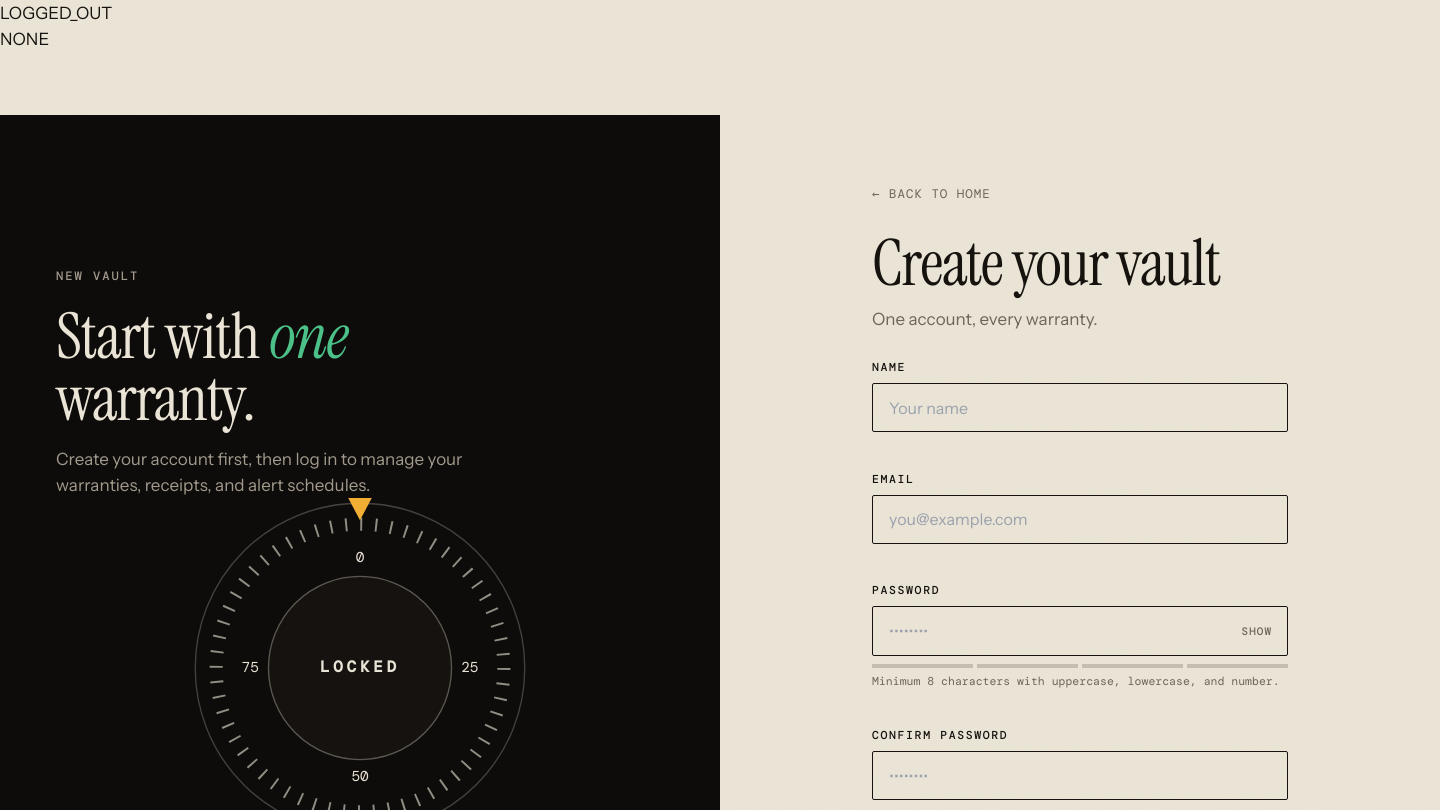
Scenario: Authentication Flow & Verification (Email & Password) › Checklist 3: User must register first, and after registration login succeeds
In the field with placeholder "Your name": coordinates (1080, 408) [872,383,1288,432], type "Alex Mercer"
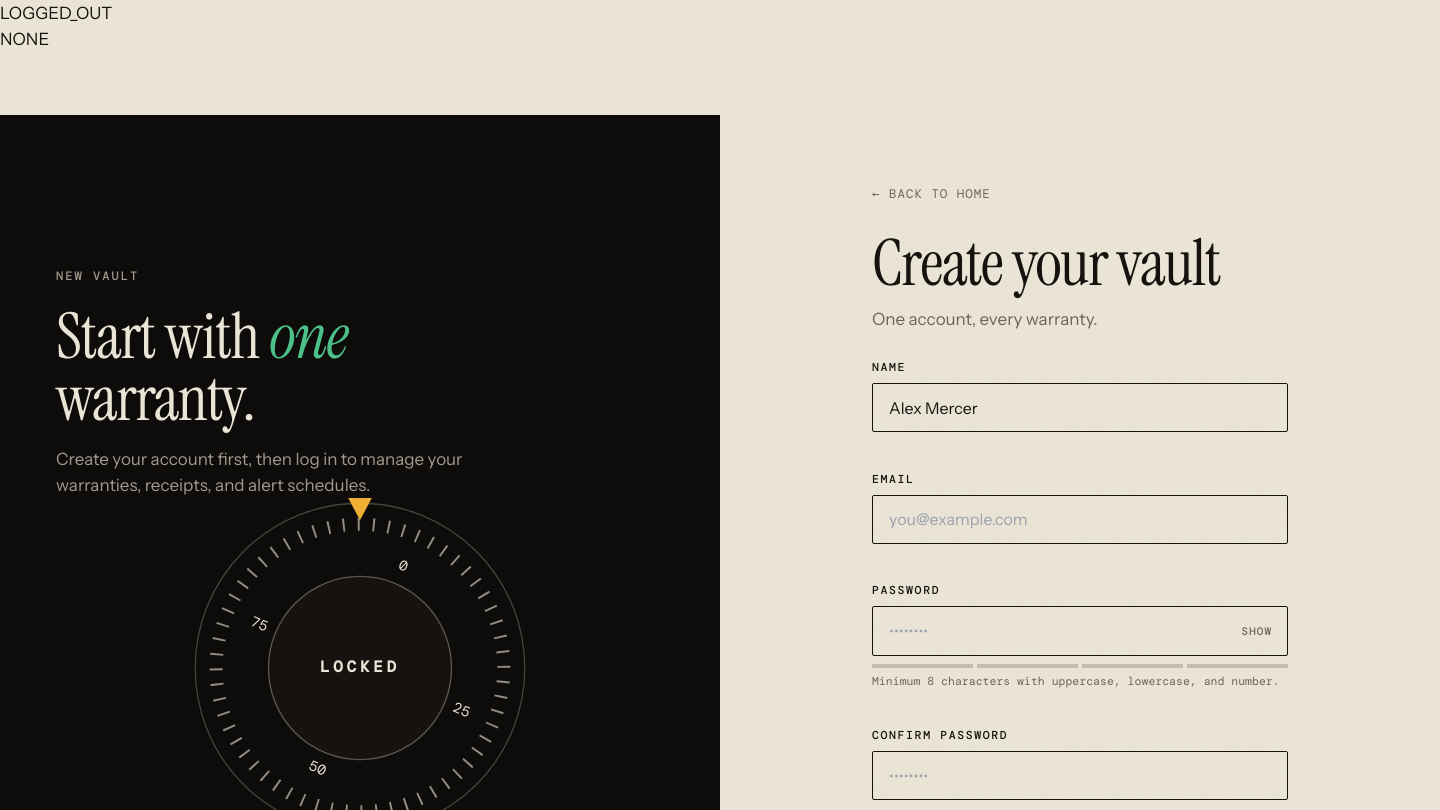
In the field with placeholder "you@example.com": coordinates (1080, 519) [872,495,1288,544], type "alex.mercer@vaultsecurity.com"
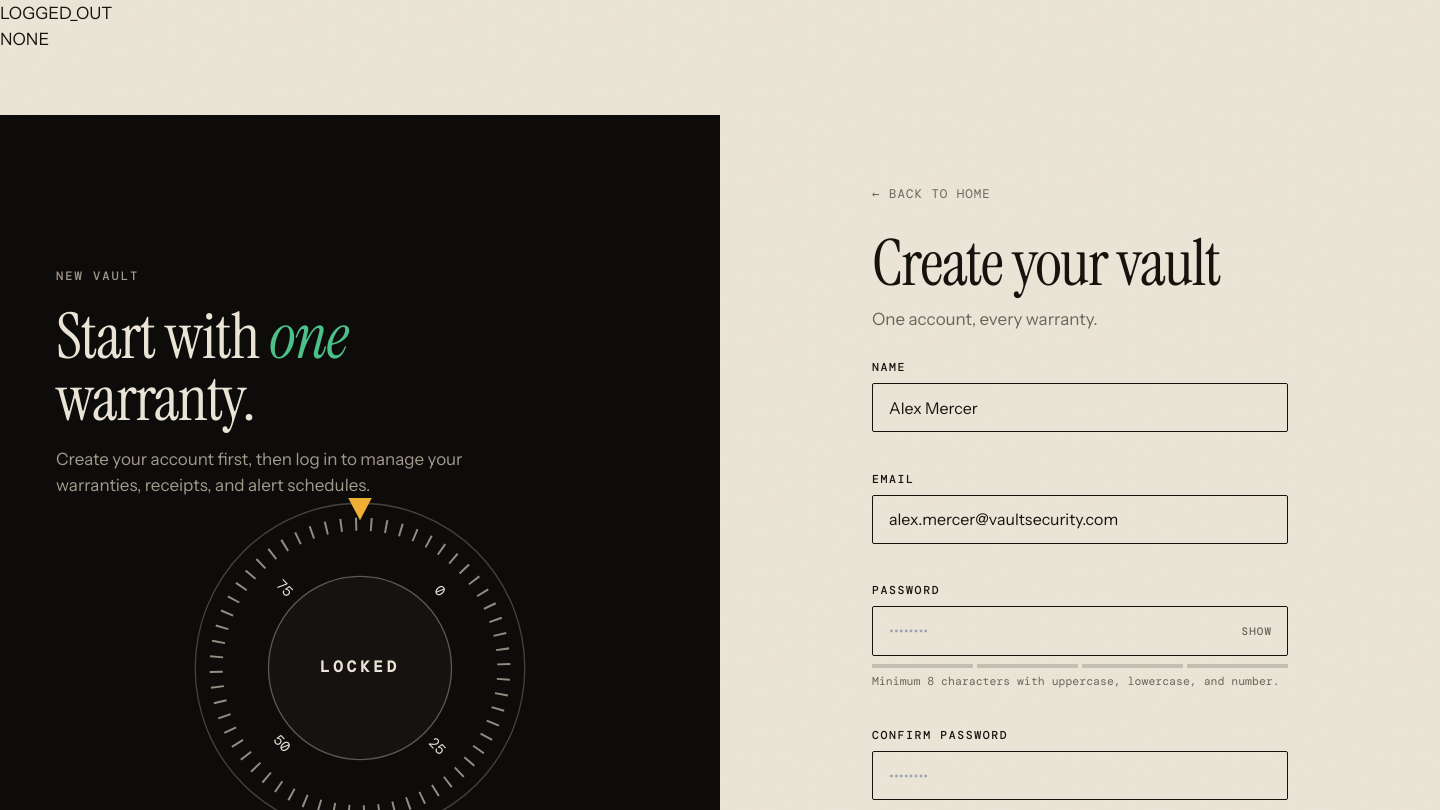
In the password field with placeholder "••••••••": coordinates (1080, 631) [872,606,1288,656], type "VaultSecret99!"
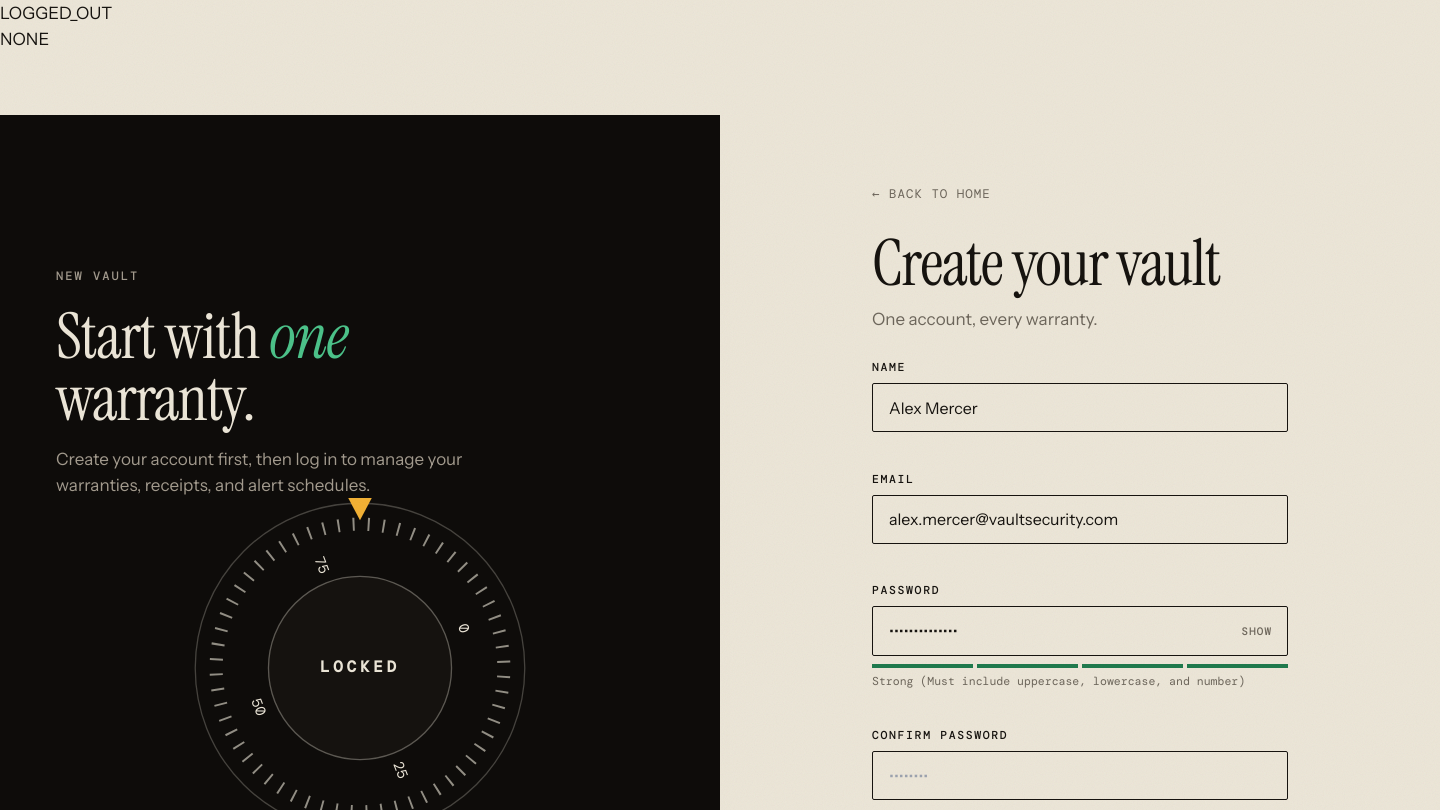
In the password field with placeholder "••••••••": coordinates (1080, 776) [872,751,1288,800], type "VaultSecret99!"
(page scrolled)
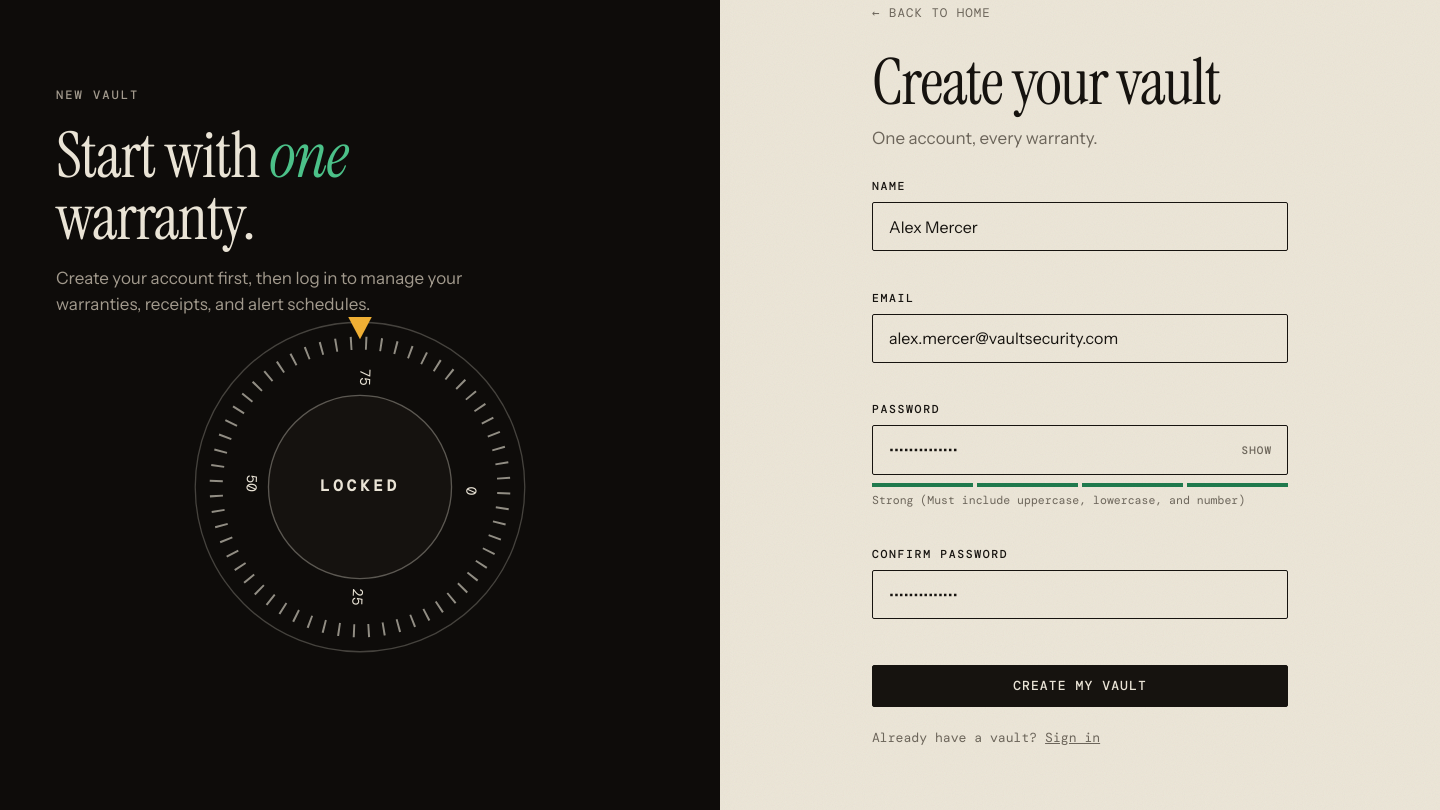
Click the button "Create my vault": coordinates (1080, 686) [872,665,1288,707]
(page scrolled)
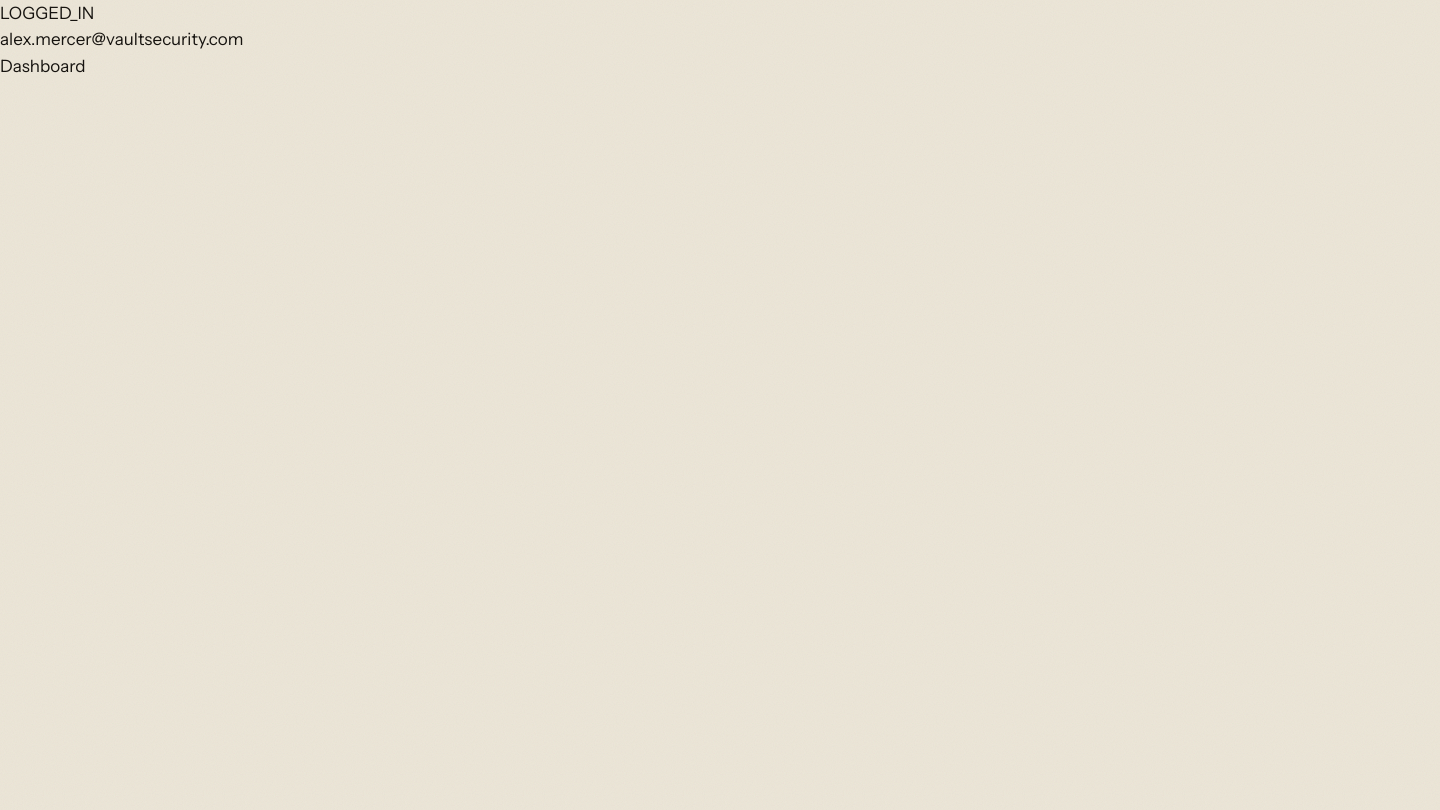
Expected: the text with test id "auth-status" reads "LOGGED_IN", [0,3,94,23]
Expected: the text with test id "auth-user-email" reads "alex.mercer@vaultsecurity.com", [0,29,244,49]
